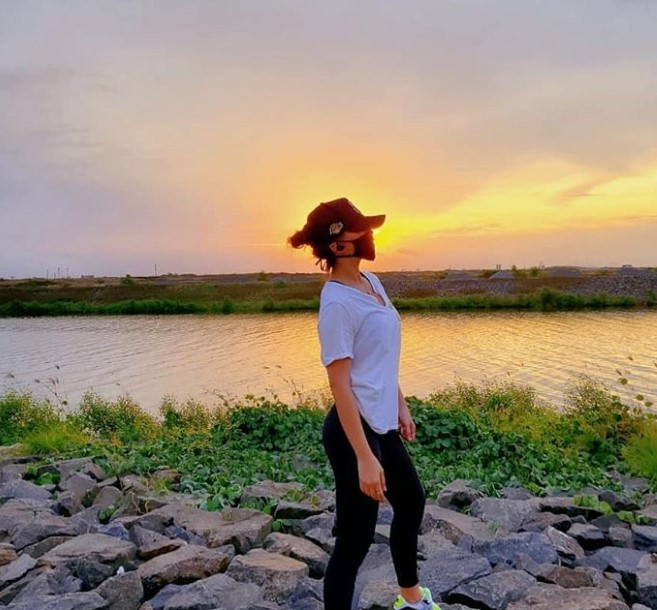face_with_mask: (292, 195, 386, 263)
